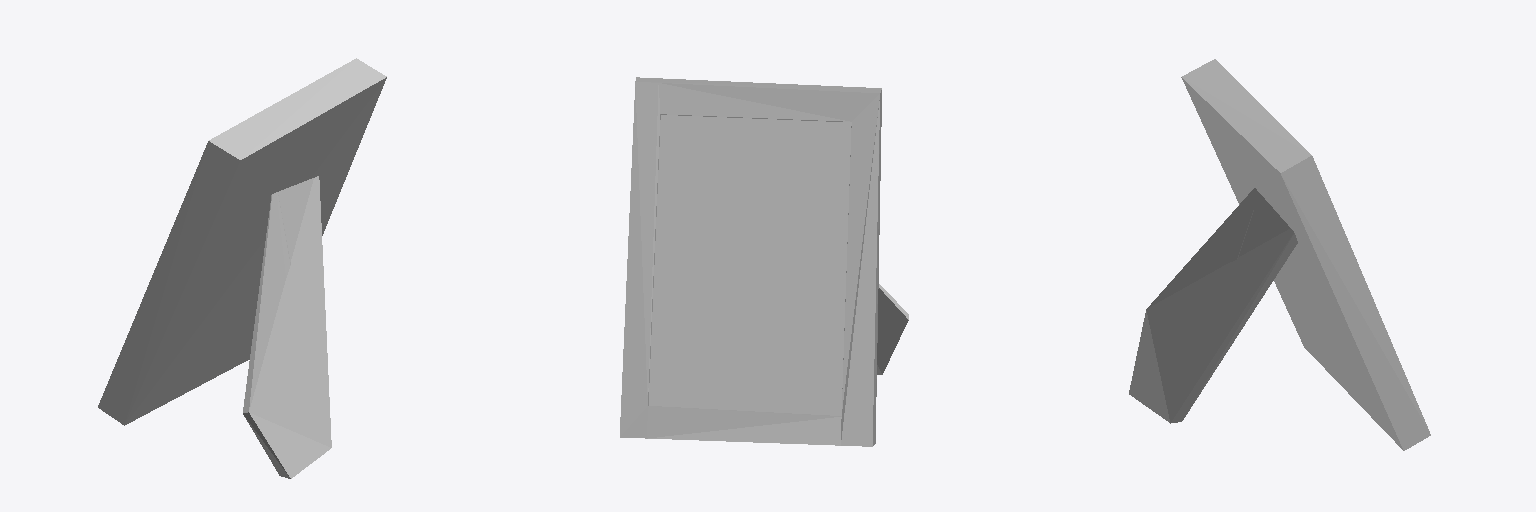
Rendered from picture_frame.obj.
The picture shows the model from 3 angles: view 1: azimuth 30°, elevation 25°; view 2: azimuth 150°, elevation 25°; view 3: azimuth 270°, elevation 25°; orthographic projection.
Parts seen in each view (by area): view 1: group[number redacted]; view 2: group[number redacted]; view 3: group[number redacted].
Part boxes in pixels (x1,y1,x2,y2): group[number redacted]: (98, 58, 386, 478); group[number redacted]: (620, 77, 908, 446); group[number redacted]: (1129, 59, 1430, 450).
Size of the model in its own units: 0.2486 by 0.2862 by 0.2477.